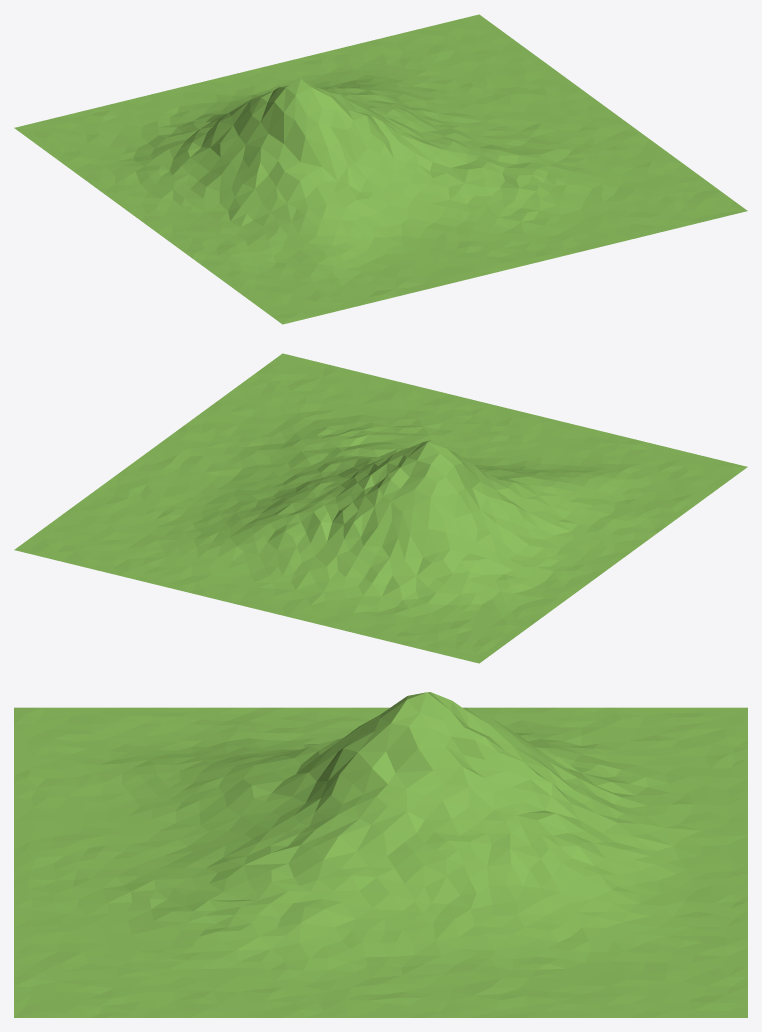
File: MT_Terrain_L_a_40_LOD.fbx
3 renders of one model, top to bottom at view 1: azimuth 30°, elevation 25°; view 2: azimuth 150°, elevation 25°; view 3: azimuth 270°, elevation 25°, orthographic. The views are drawn at different scales.
Parts seen in each view (by area): view 1: MT_Terrain_L_a_40_LOD0; view 2: MT_Terrain_L_a_40_LOD0; view 3: MT_Terrain_L_a_40_LOD0.
Part boxes in pixels (x1,y1,x2,y2): MT_Terrain_L_a_40_LOD0: (14, 14, 747, 324); MT_Terrain_L_a_40_LOD0: (14, 353, 747, 663); MT_Terrain_L_a_40_LOD0: (14, 692, 747, 1017).
Size of what is drawn, in the model's own units: 10000 by 1938 by 10000.
